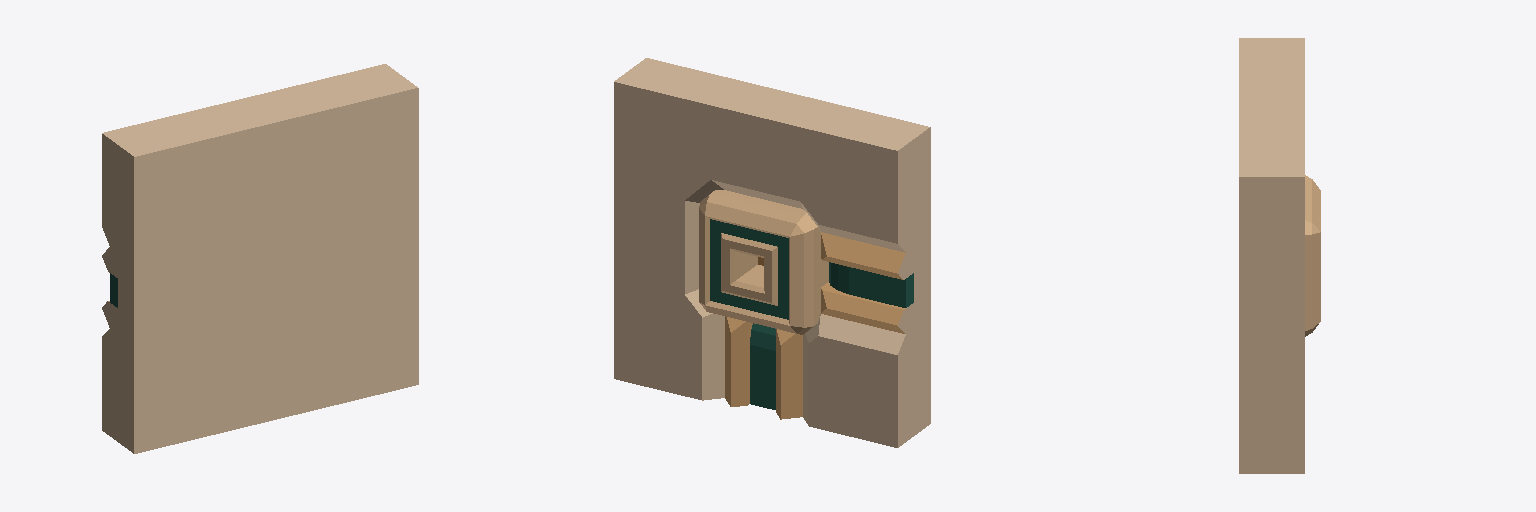
File: Puzzle_Wall_Conduit_Keyhole_Corner.obj
3 renders of one model, left to right at view 1: azimuth 30°, elevation 25°; view 2: azimuth 150°, elevation 25°; view 3: azimuth 270°, elevation 25°, orthographic.
Visible parts, largest first — view 1: object4; view 2: object4, object5, object3, object1, object2; view 3: object4, object5.
Boxes of the visible parts, box(x1,y1,x2,y2) form: object4: box(102, 64, 418, 453); object4: box(614, 58, 930, 447); object5: box(699, 190, 828, 334); object3: box(710, 219, 788, 319); object1: box(829, 262, 913, 307); object2: box(750, 323, 775, 409); object4: box(1239, 38, 1304, 473); object5: box(1305, 175, 1320, 336).
Size of the model in its own units: 1 by 1 by 0.25.